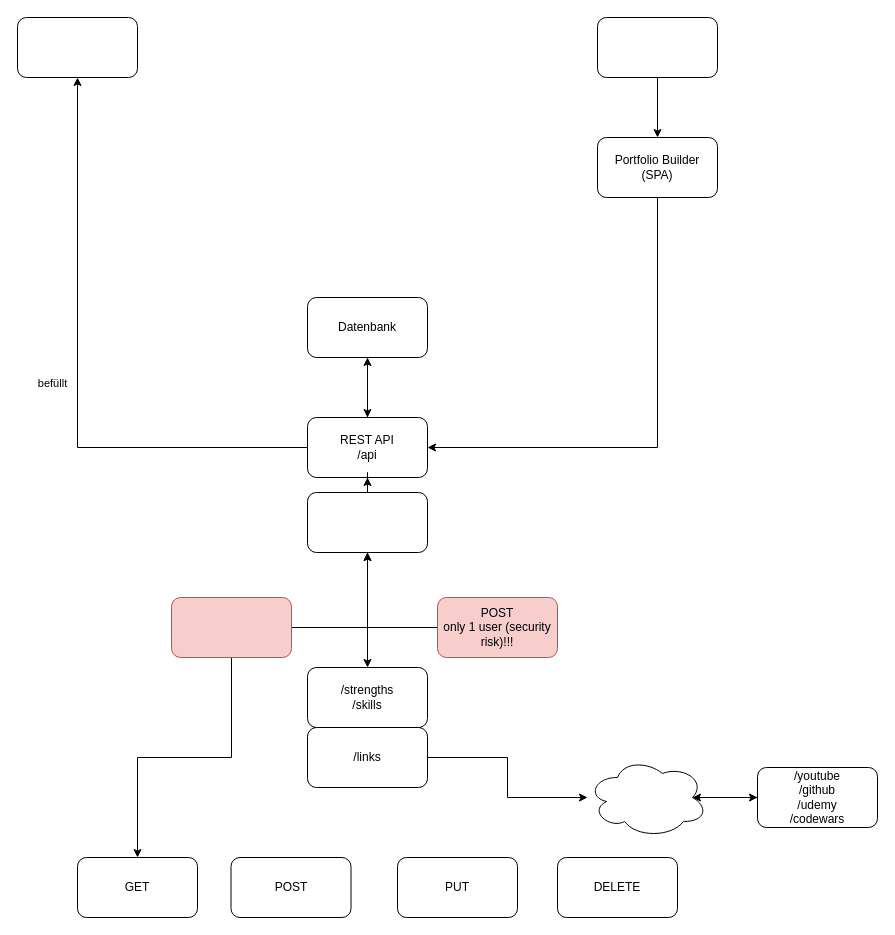
Some shapes in this 895 by 935 pixel diagram are drawn without their labels. The shapes that lost their labels are listed below. From the top down, each one's centre as x and y in pixels, then its label:
the point at 77,47: Landing Page
the point at 657,47: Login Page
the point at 367,522: /user
the point at 231,627: GET complete user info
the point at 647,797: www
